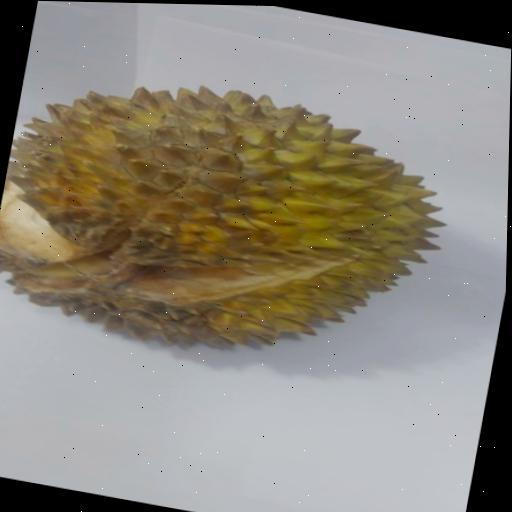rot: (0, 37, 486, 408)
